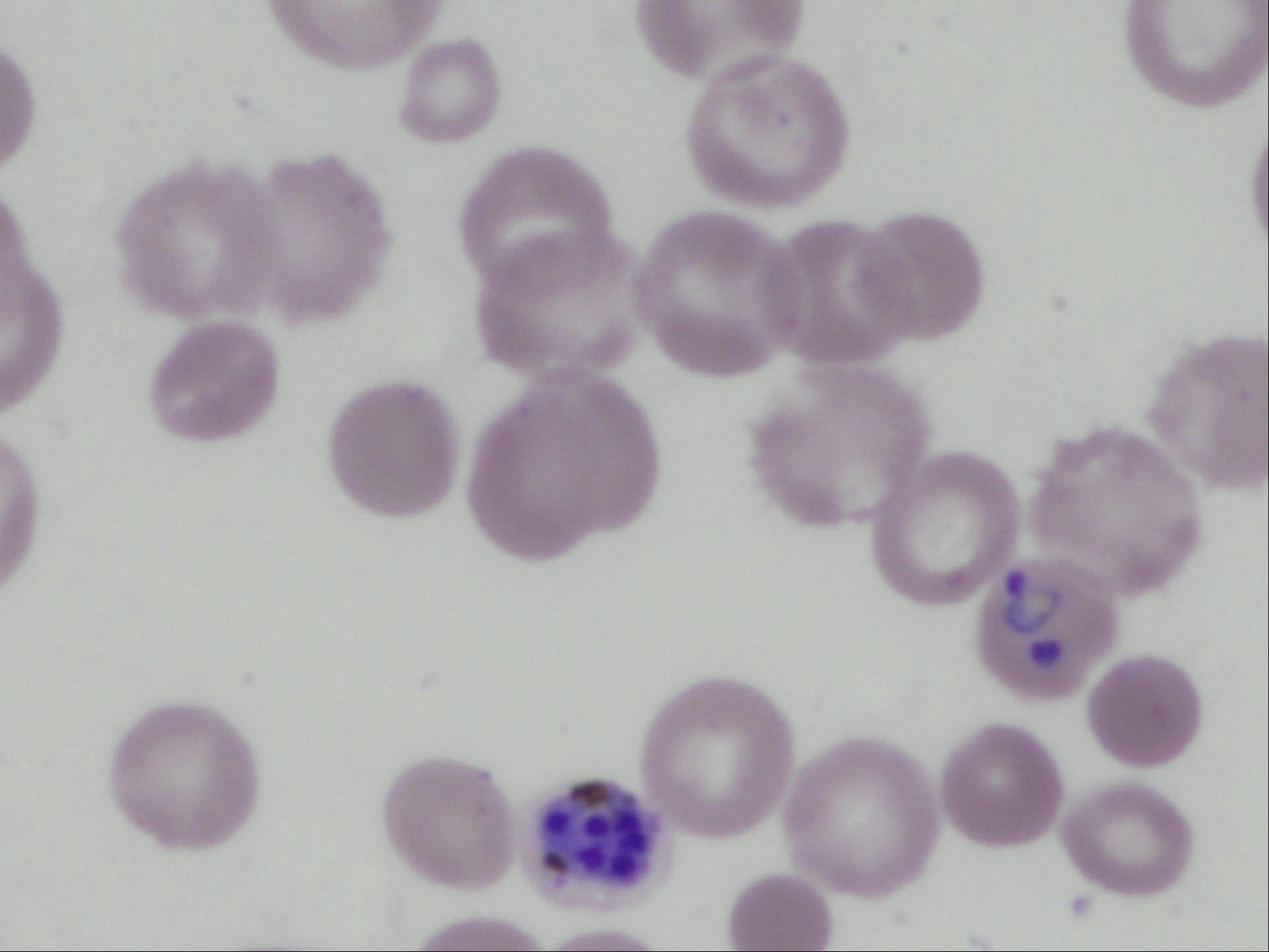Infected: (519, 775, 670, 910), (976, 560, 1113, 699)
Uninfected: (469, 371, 658, 566), (749, 366, 930, 530), (634, 210, 803, 375), (1032, 431, 1193, 590), (119, 165, 286, 318), (478, 236, 654, 381), (640, 679, 790, 836), (781, 742, 932, 893), (688, 61, 845, 206), (110, 706, 254, 850), (872, 458, 1014, 603), (258, 159, 389, 316), (462, 148, 615, 274), (783, 223, 916, 363), (328, 382, 460, 517), (381, 760, 514, 891), (1153, 339, 1265, 485), (151, 323, 279, 441), (866, 213, 984, 339), (941, 727, 1058, 846), (1063, 785, 1188, 894), (1128, 2, 1262, 102), (1087, 657, 1198, 766), (401, 40, 499, 138)
